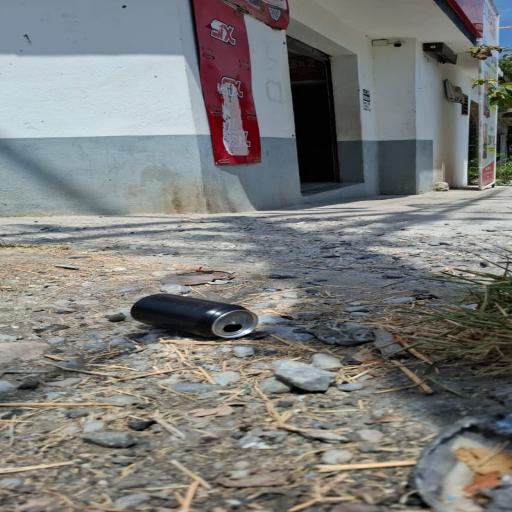LATA: (123, 289, 274, 346)
